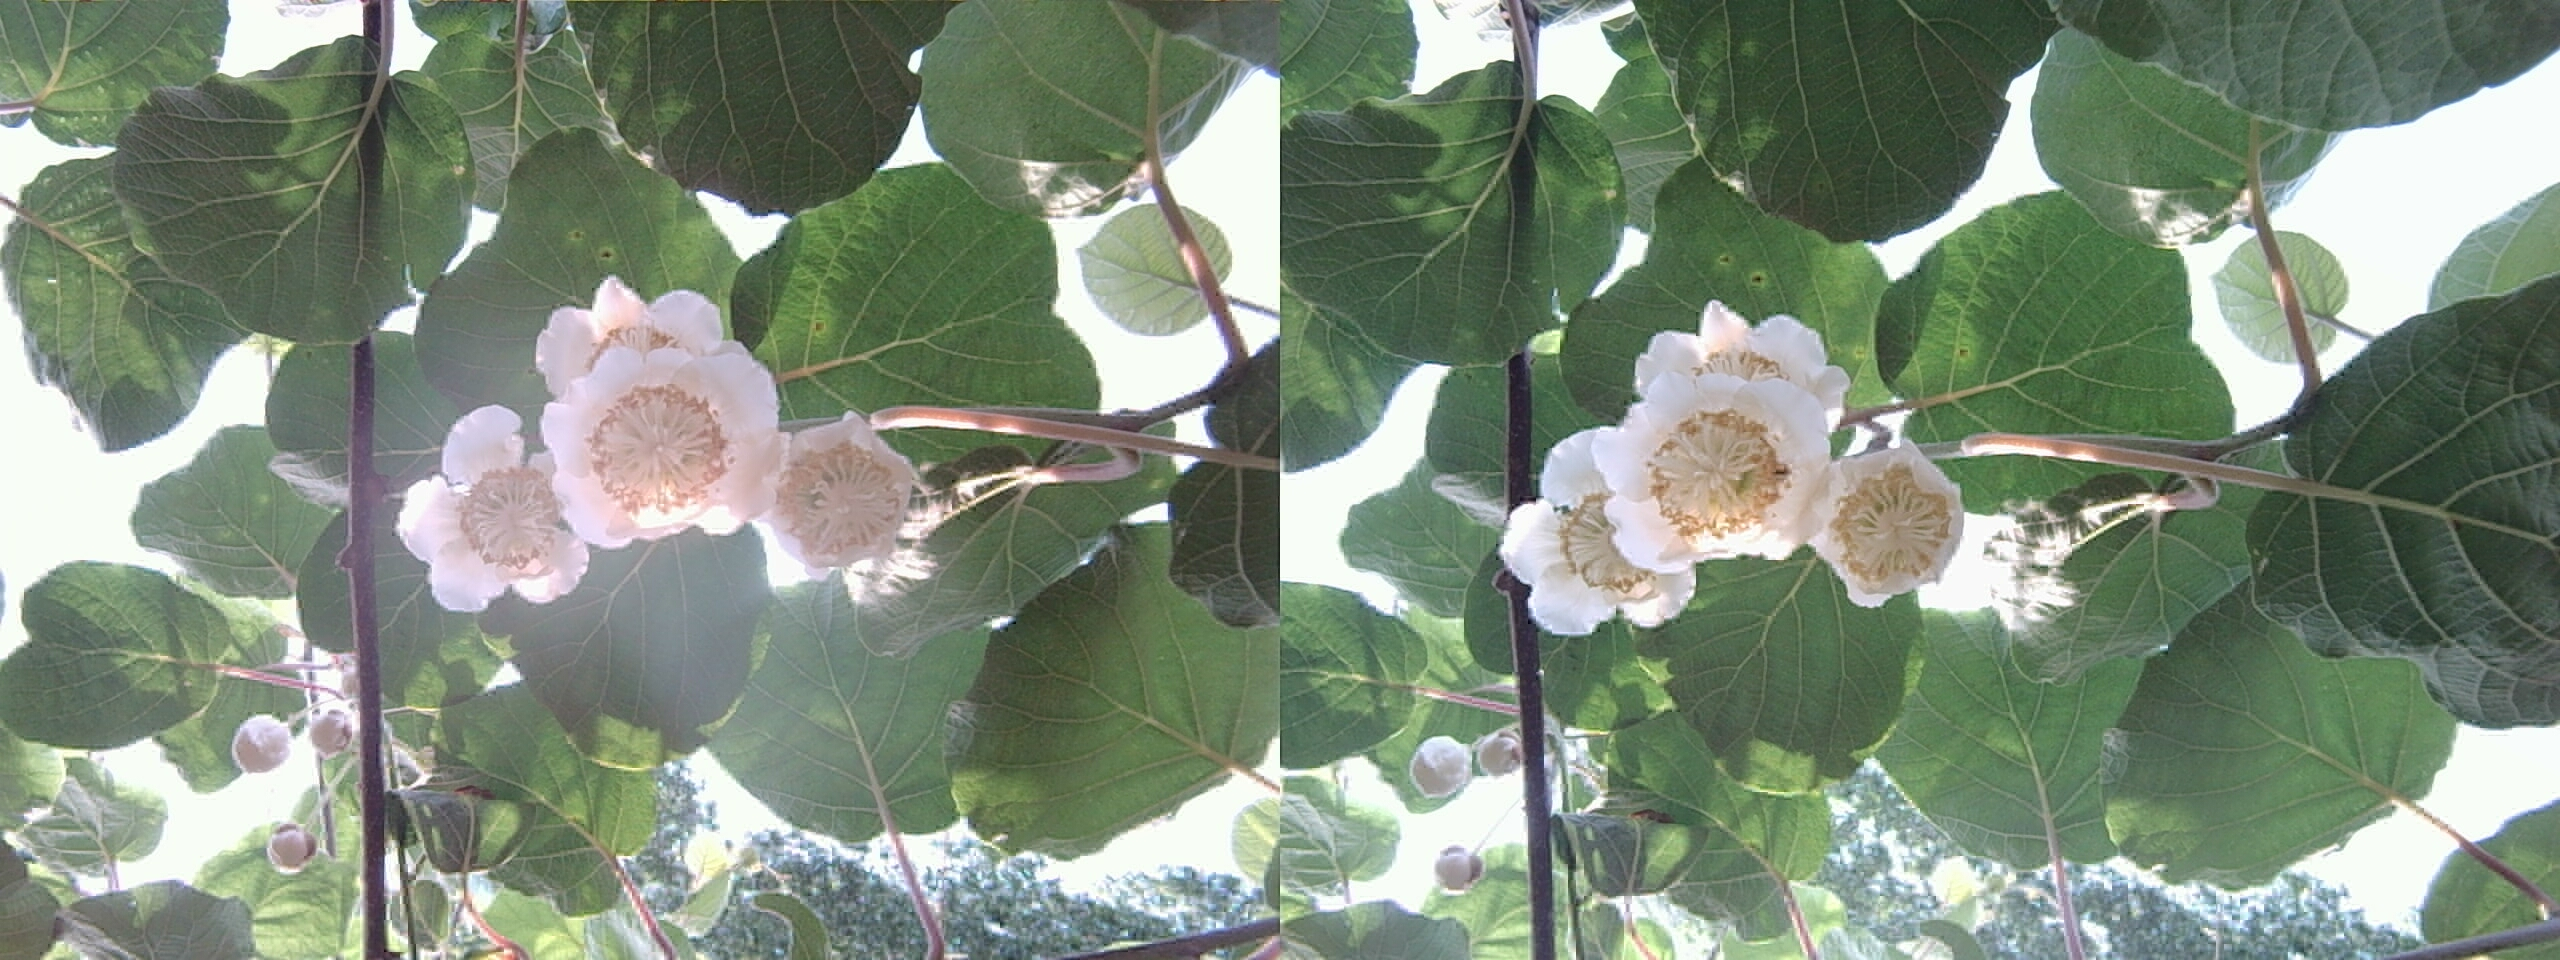flower: (536, 284, 771, 552), (1592, 320, 1830, 581), (390, 393, 601, 619), (733, 408, 931, 573), (1492, 459, 1683, 629), (1789, 442, 1962, 601)
